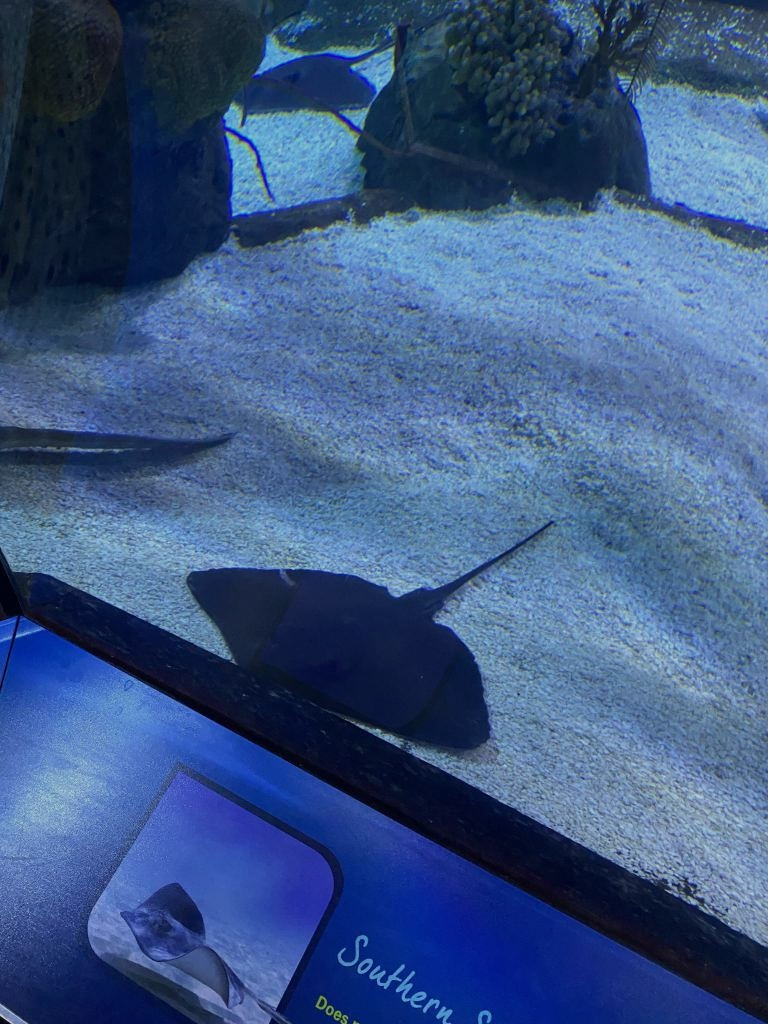stingray: (189, 569, 491, 751), (235, 52, 375, 114)
